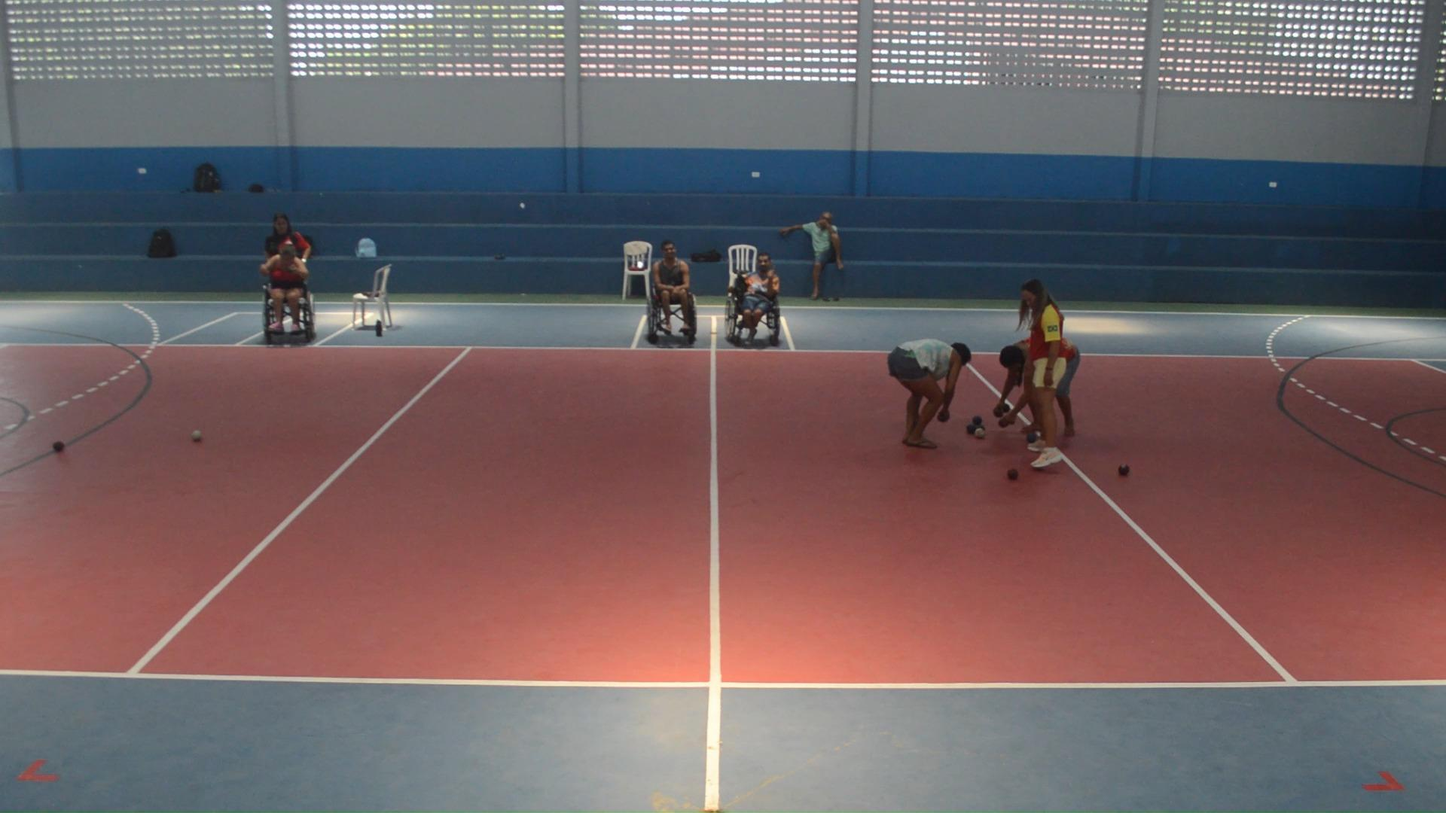blue_ball: (935, 411, 950, 424), (1025, 431, 1038, 445), (965, 423, 978, 435), (971, 414, 983, 426), (976, 425, 986, 435)
red_ball: (1005, 467, 1020, 482), (51, 440, 66, 454), (1117, 463, 1131, 477), (997, 416, 1010, 430), (991, 405, 1004, 419)
white_ball: (973, 427, 987, 441), (190, 429, 203, 442)
